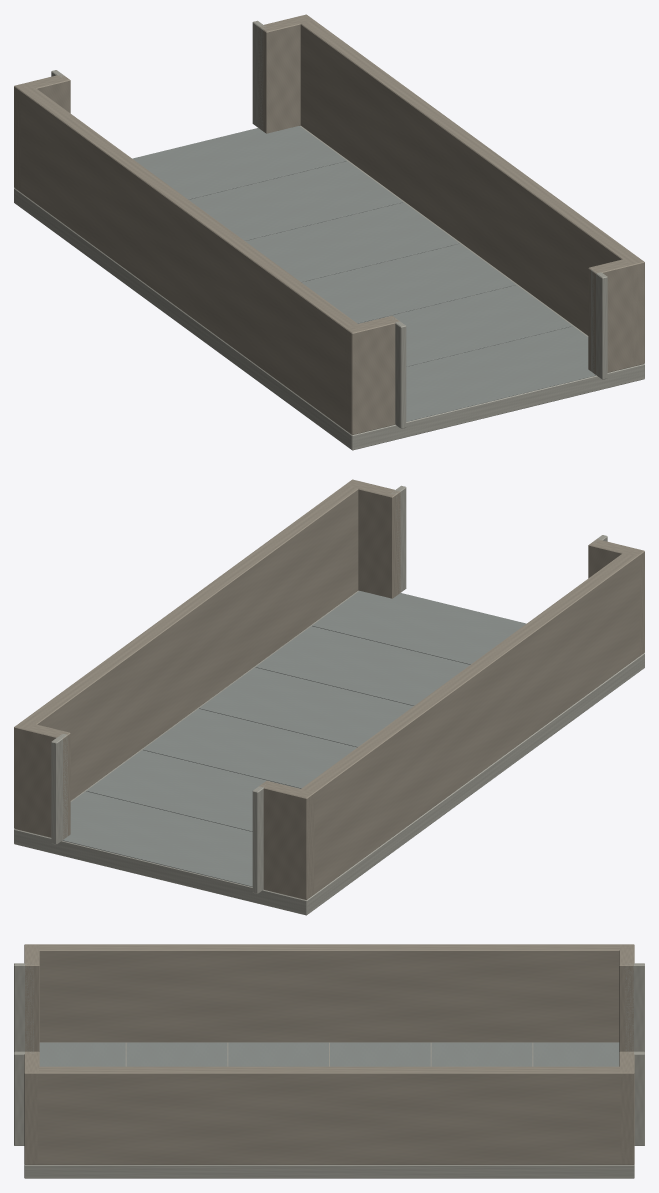
Rendered from I12_BridgeLink_visual.glb.
3 views of the same model, one above another, from view 1: azimuth 30°, elevation 25°; view 2: azimuth 150°, elevation 25°; view 3: azimuth 270°, elevation 25° (orthographic). The views are drawn at different scales.
Visible parts, largest first — view 1: I12_BridgeLink__VIS_shell; view 2: I12_BridgeLink__VIS_shell; view 3: I12_BridgeLink__VIS_shell.
Boxes of the visible parts, left/top/right/bottom form: I12_BridgeLink__VIS_shell: left=14, top=14, right=644, bottom=450; I12_BridgeLink__VIS_shell: left=14, top=479, right=644, bottom=915; I12_BridgeLink__VIS_shell: left=14, top=944, right=644, bottom=1178.
Size of the model in its own units: 12 by 4.6 by 24.82.
1 material, 1 textured.
